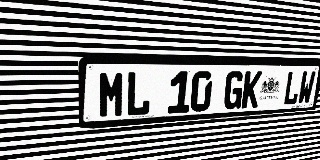0: (189, 71, 213, 112)
1: (168, 71, 192, 114)
G: (223, 71, 245, 110)
K: (241, 71, 262, 109)
L: (125, 71, 151, 117), (282, 71, 302, 106)
M: (98, 71, 125, 119)
W: (297, 71, 316, 105)
